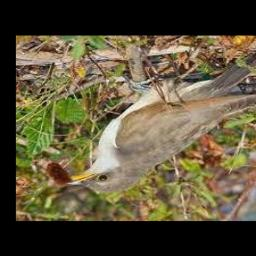Cuckoo: (66, 36, 256, 192)
